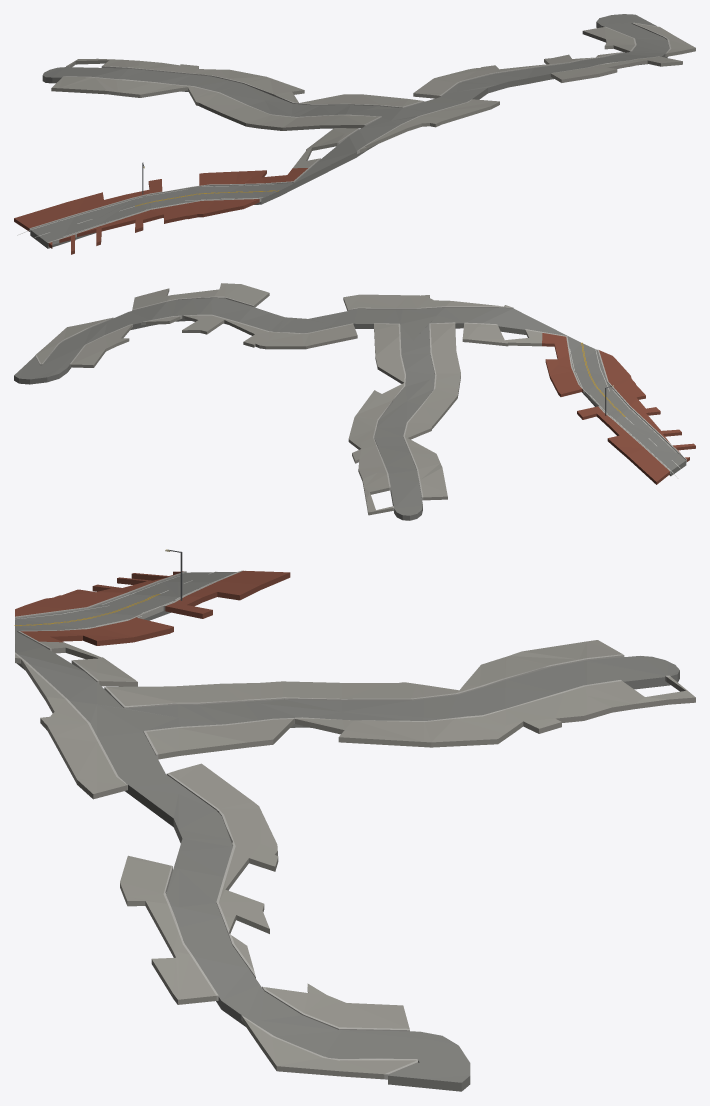
3 views of the same model, one above another, from view 1: azimuth 30°, elevation 25°; view 2: azimuth 150°, elevation 25°; view 3: azimuth 270°, elevation 25° (orthographic). The views are drawn at different scales.
Size of the model in its own units: 149 by 16.73 by 83.48.
